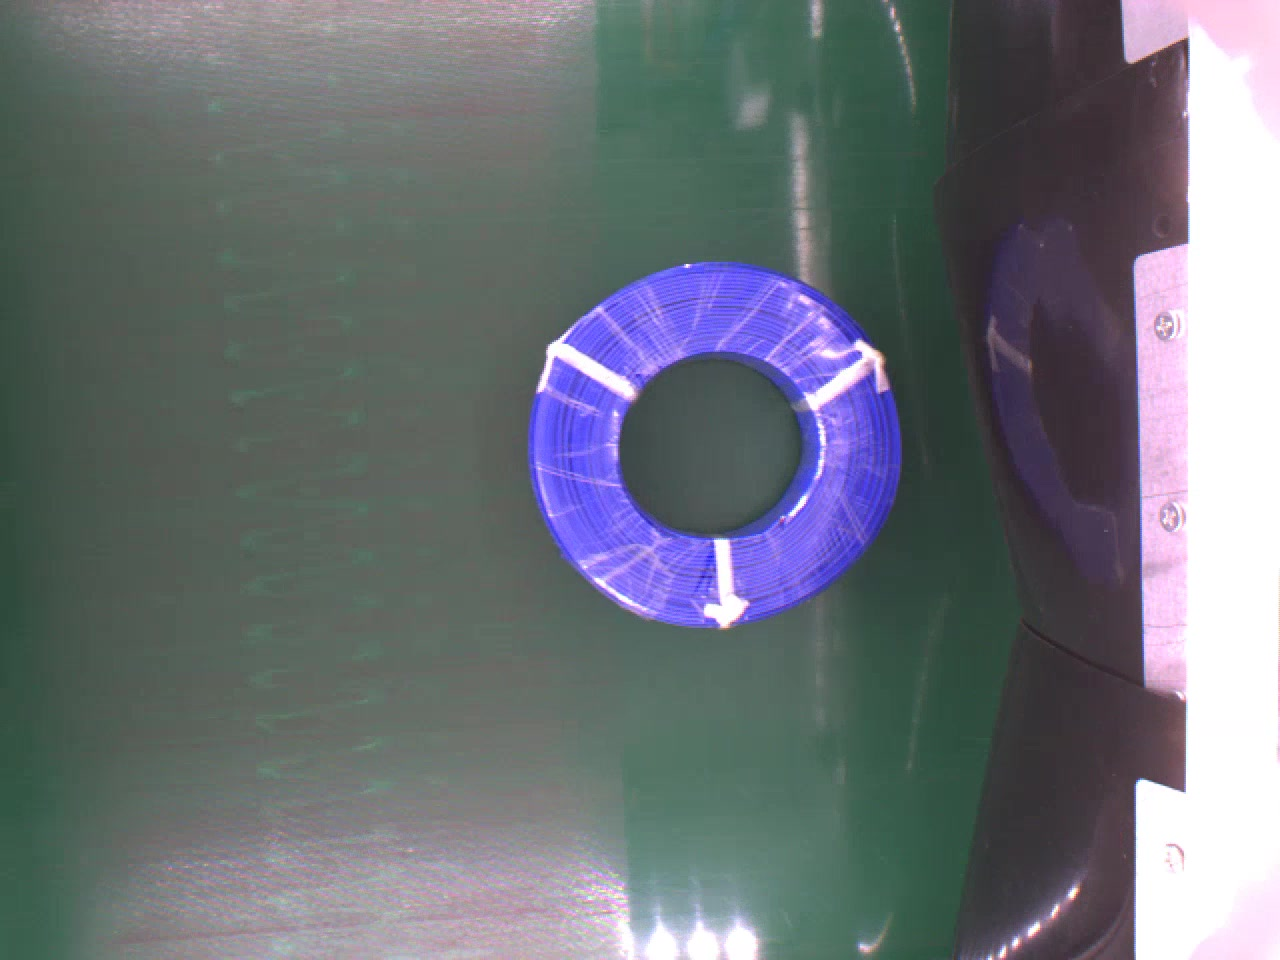blue: (526, 255, 906, 631)
